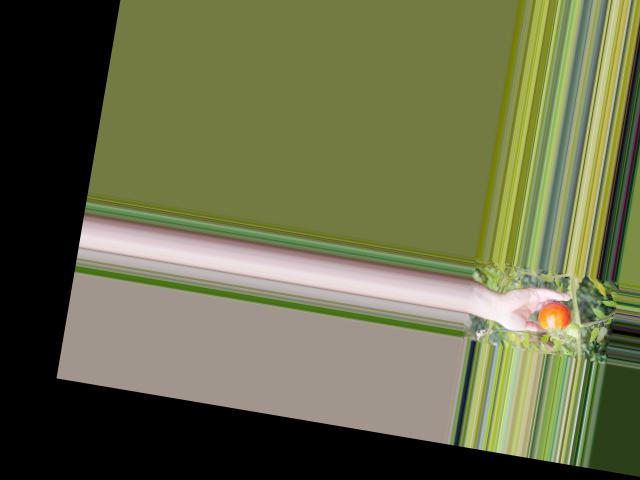tomato: (535, 300, 573, 333)
